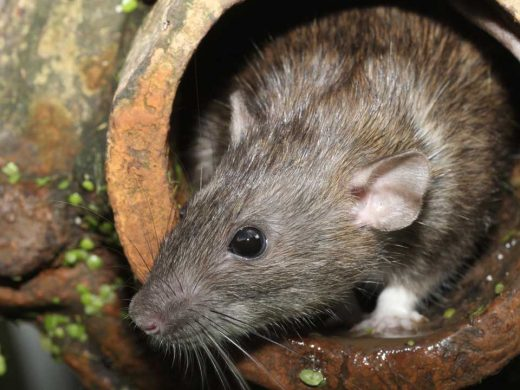rat: (107, 47, 495, 374)
